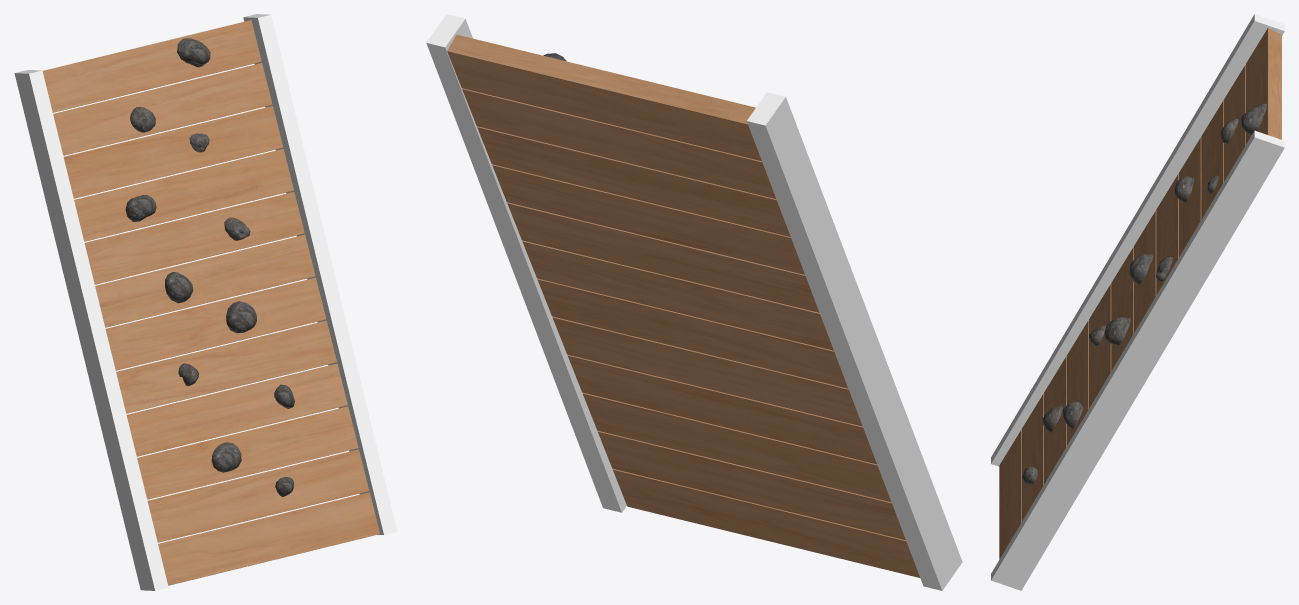
The model's file is Poly rock 5'.glb.
The picture shows the model from 3 angles, left to right: view 1: azimuth 30°, elevation 25°; view 2: azimuth 150°, elevation 25°; view 3: azimuth 270°, elevation 25°; orthographic projection. The views are drawn at different scales.
Visible parts, largest first — view 1: Cube.120; view 2: Cube.120; view 3: Cube.120.
Part boxes in pixels (x1,y1,x2,y2): Cube.120: (14,14,397,590); Cube.120: (426,14,962,590); Cube.120: (991,14,1284,590).
Bounding box in the file's own units: 0.9144 × 1.57 × 0.9204.
3 materials, 2 textured.
